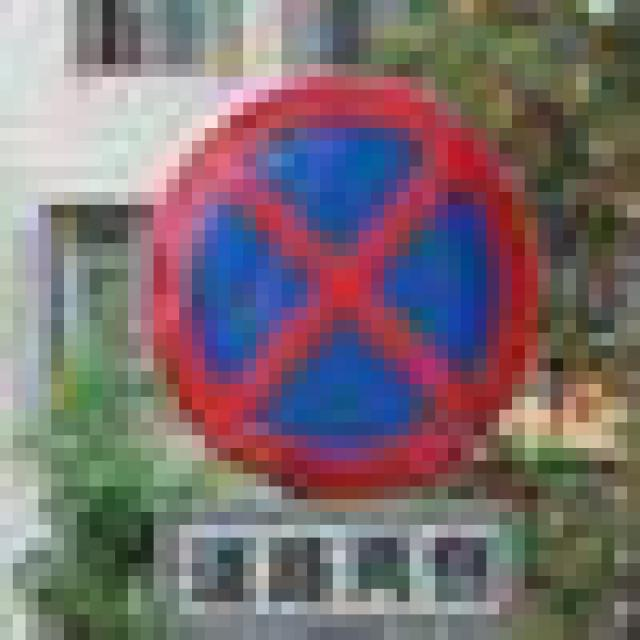NO_STOPPING_OR_STANDING: (128, 64, 525, 474)
